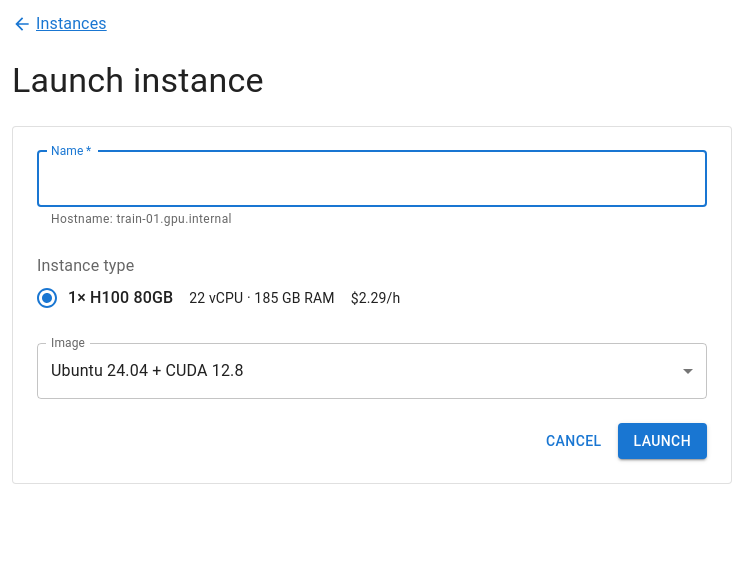
Test: LaunchInstancePage › reports a full network above the form
Type "train-01" into the field labelled "Name *" at (372, 179), box [37,151,707,207]
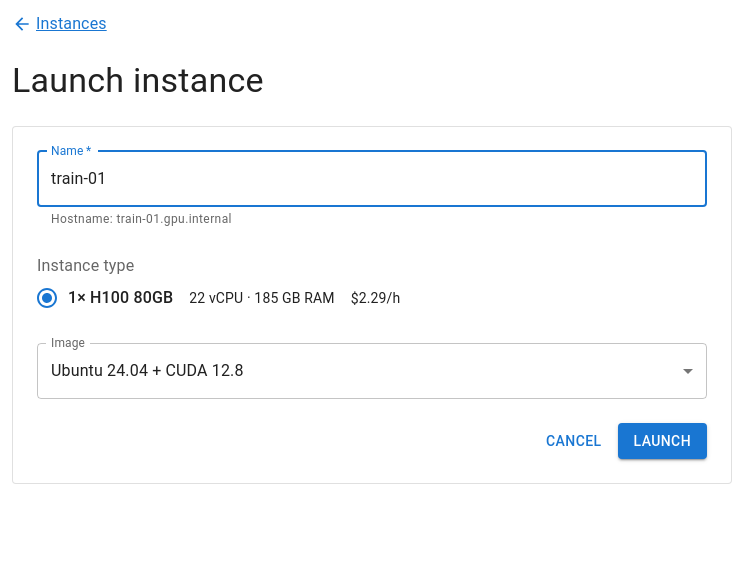
Click the button "Launch" at (662, 441), box [618,423,707,459]
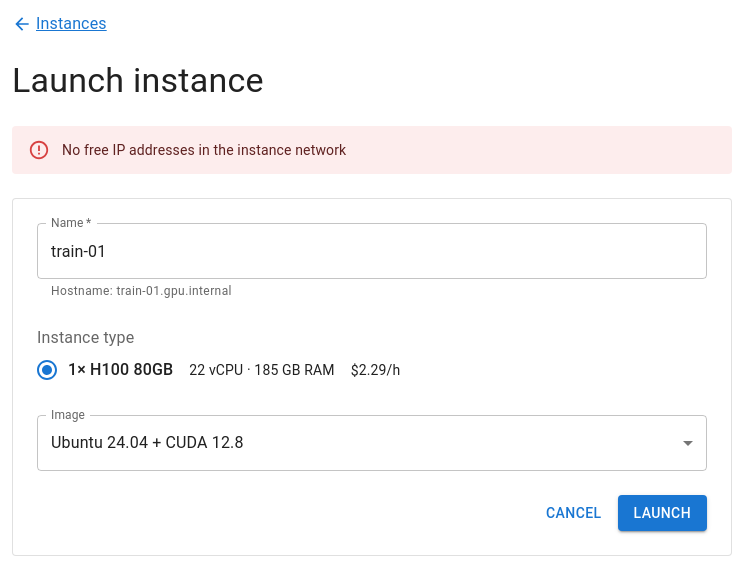
Result: the message reads "No free IP addresses in the instance network" at [62,142,346,158]
